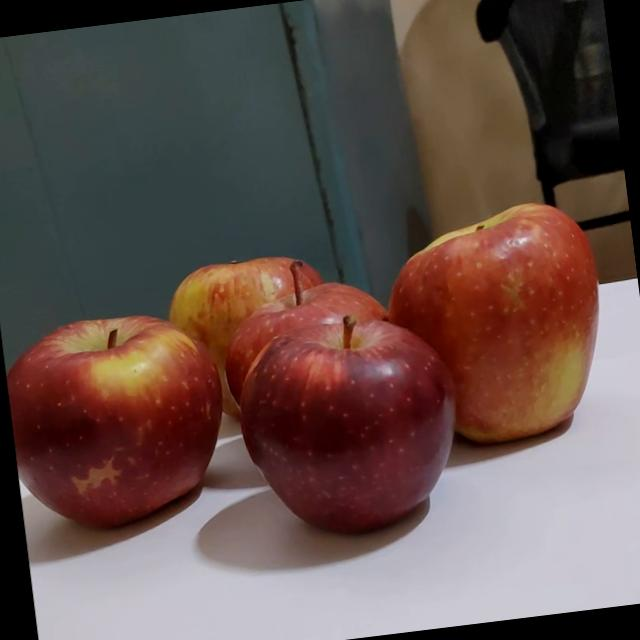apple: (2, 321, 260, 558), (374, 208, 610, 467), (256, 308, 492, 552), (221, 262, 413, 488), (149, 260, 322, 454)
